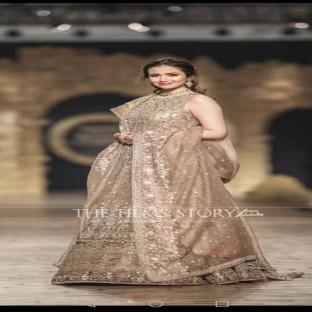Human: (51, 58, 303, 286)
